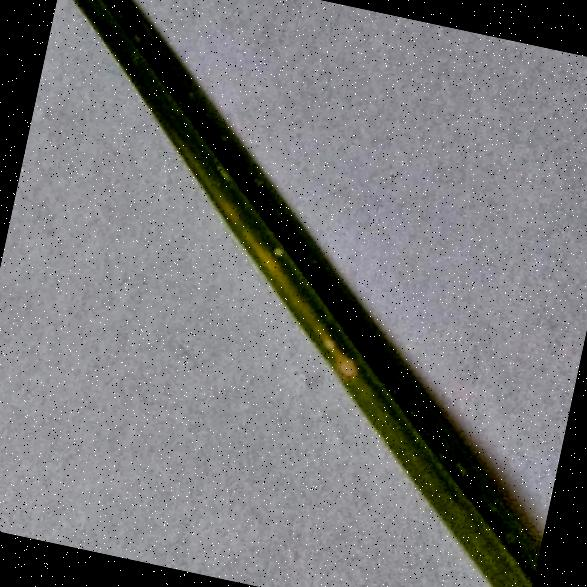Leaf_smut: (177, 192, 396, 388)
